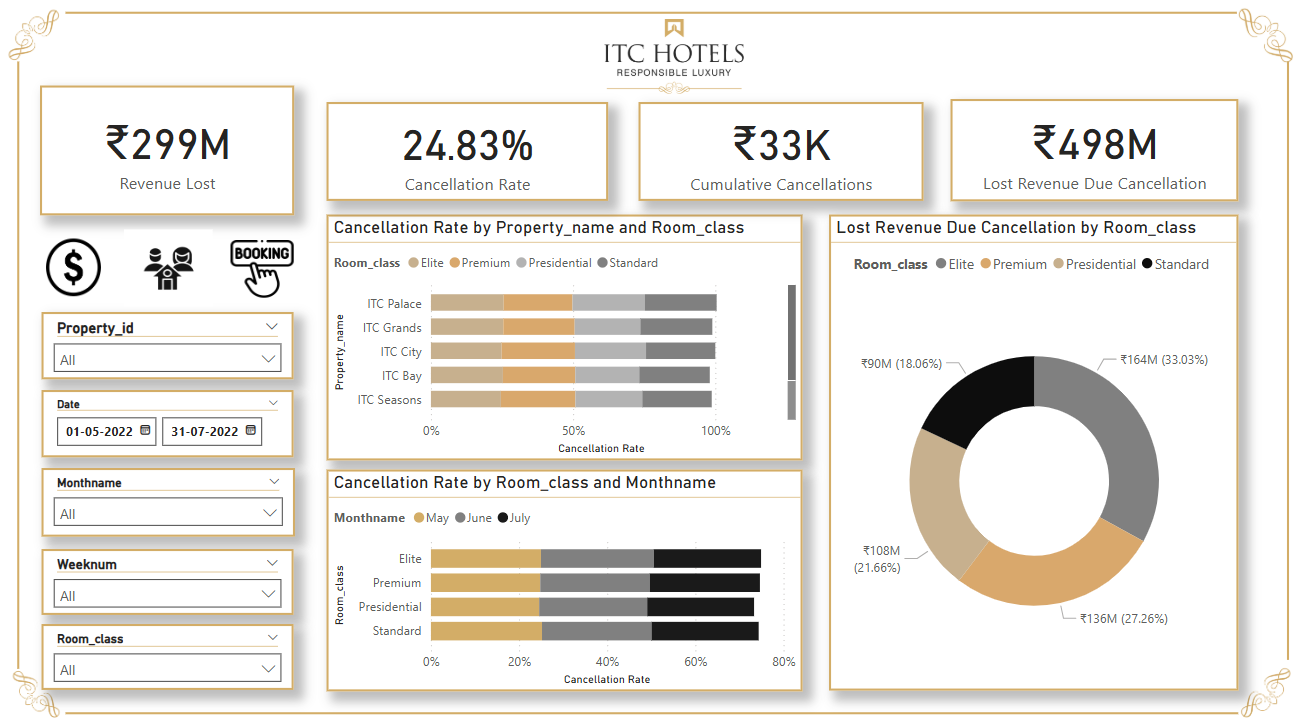

This screenshot's page, from the dashboard's own definition file:
{"tool":"powerbi","page":{"name":"Cancellations","canvas":[1280,720],"ordinal":3},"visuals":[{"type":"card","fields":{"Values":["table.Revenue Lost"]},"box":[46.4,91.1,246.8,125.9],"z":0},{"type":"barChart","fields":{"Category":["Hotels.property_name"],"Y":["table.Cancellation rate"],"Series":["Rooms.Room_class"]},"box":[324.7,217,462.2,238.5],"z":1000},{"type":"card","fields":{"Values":["table.Cancellation rate"]},"box":[324.7,107.7,273.3,96.1],"z":2000},{"type":"card","fields":{"Values":["table.Cumulative Cancellations"]},"box":[627.8,107.7,276.6,96.1],"z":3000},{"type":"card","fields":{"Values":["table.LRDC"]},"box":[929.6,105.3,279.5,99.2],"z":4000},{"type":"shape","box":[71.3,10.2,1136.8,21.8],"z":5000},{"type":"shape","box":[13.1,68.4,24.7,589.5],"z":6000},{"type":"shape","box":[71.3,698.7,1138.2,4.4],"z":7000},{"type":"shape","box":[1254.7,68.4,5.8,580.8],"z":8000},{"type":"image","box":[557.5,21.8,208,83],"z":9000},{"type":"image","box":[0,0,75.7,80.1],"z":10000},{"type":"image","box":[1.5,649.2,78.6,71.3],"z":11000},{"type":"image","box":[1197.9,0,81.5,80.1],"z":12000},{"type":"image","box":[1197.9,646.3,81.5,74.2],"z":13000},{"type":"slicer","fields":{"Values":["Hotels.property_id"]},"box":[48,311.5,244.5,65.5],"z":14000},{"type":"slicer","fields":{"Values":["Calendar.Date"]},"box":[48,387.2,244.5,65.5],"z":15000},{"type":"slicer","fields":{"Values":["Calendar.Monthname"]},"box":[48,462.9,246,67],"z":16000},{"type":"slicer","fields":{"Values":["Calendar.weeknum"]},"box":[48,541.5,244.5,64],"z":17000},{"type":"slicer","fields":{"Values":["Rooms.Room_class"]},"box":[48,614.2,244.5,64],"z":18000},{"type":"actionButton","box":[53,240.2,53,56.3],"z":19000},{"type":"actionButton","box":[127.5,231.9,86.1,74.5],"z":20000},{"type":"actionButton","box":[231.9,241.8,61.3,56.3],"z":21000},{"type":"donutChart","fields":{"Category":["Rooms.room_class"],"Y":["table.Lost Revenue Due Cancellation"]},"box":[811.7,217,397.6,462.2],"z":22000},{"type":"barChart","fields":{"Y":["table.Cancellation rate"],"Category":["Rooms.Room_class"],"Series":["Calendar.Monthname"]},"box":[324.7,463.8,462.2,215.3],"z":23000}]}

Visuals, with their boxes in screenshot pixels (x1, y1, x2, y2), scaled from the page's 1280x720 canvas onto the 1301x722 screenshot:
card - table.Revenue Lost: Rect(47, 91, 298, 218)
barChart - Hotels.property_name x table.Cancellation rate: Rect(330, 218, 800, 457)
card - table.Cancellation rate: Rect(330, 108, 608, 204)
card - table.Cumulative Cancellations: Rect(638, 108, 919, 204)
card - table.LRDC: Rect(945, 106, 1229, 205)
shape: Rect(72, 10, 1228, 32)
shape: Rect(13, 69, 38, 660)
shape: Rect(72, 701, 1229, 705)
shape: Rect(1275, 69, 1281, 651)
image: Rect(567, 22, 778, 105)
image: Rect(0, 0, 77, 80)
image: Rect(2, 651, 81, 721)
image: Rect(1218, 0, 1300, 80)
image: Rect(1218, 648, 1300, 721)
slicer - Hotels.property_id: Rect(49, 312, 297, 378)
slicer - Calendar.Date: Rect(49, 388, 297, 454)
slicer - Calendar.Monthname: Rect(49, 464, 299, 531)
slicer - Calendar.weeknum: Rect(49, 543, 297, 607)
slicer - Rooms.Room_class: Rect(49, 616, 297, 680)
actionButton: Rect(54, 241, 108, 297)
actionButton: Rect(130, 233, 217, 307)
actionButton: Rect(236, 242, 298, 299)
donutChart - Rooms.room_class x table.Lost Revenue Due Cancellation: Rect(825, 218, 1229, 681)
barChart - table.Cancellation rate x Rooms.Room_class: Rect(330, 465, 800, 681)
